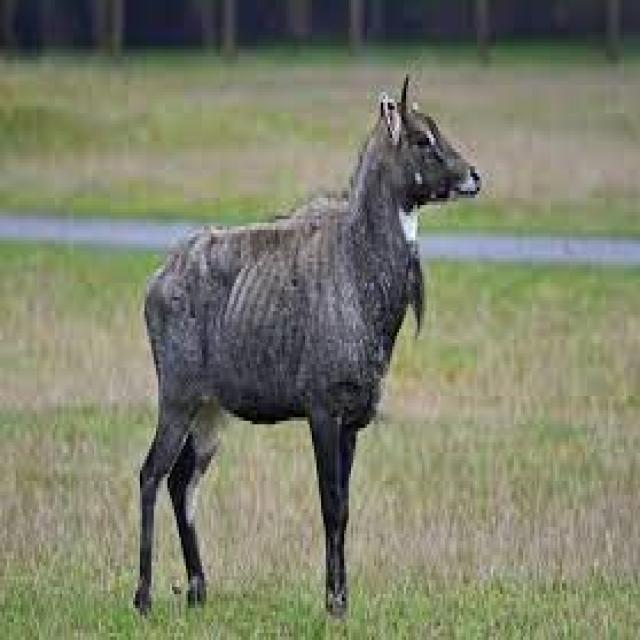objects: (62, 48, 543, 622)
